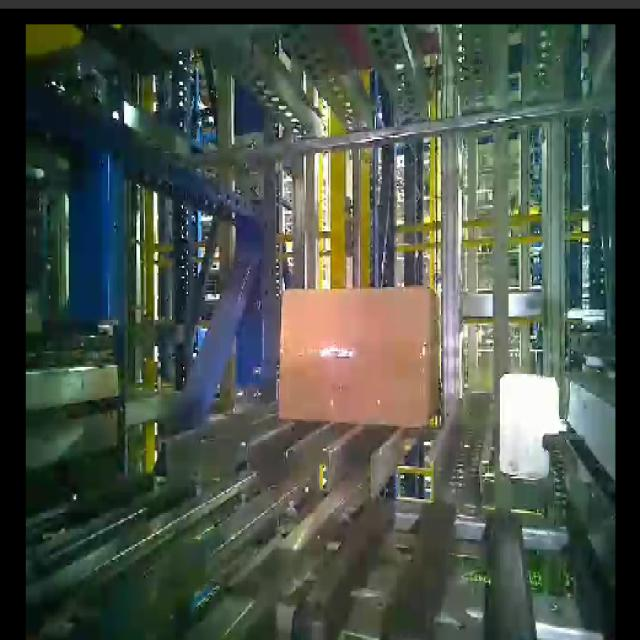box: (277, 282, 430, 428)
